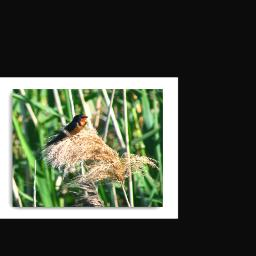Swallow: (41, 113, 92, 150)
